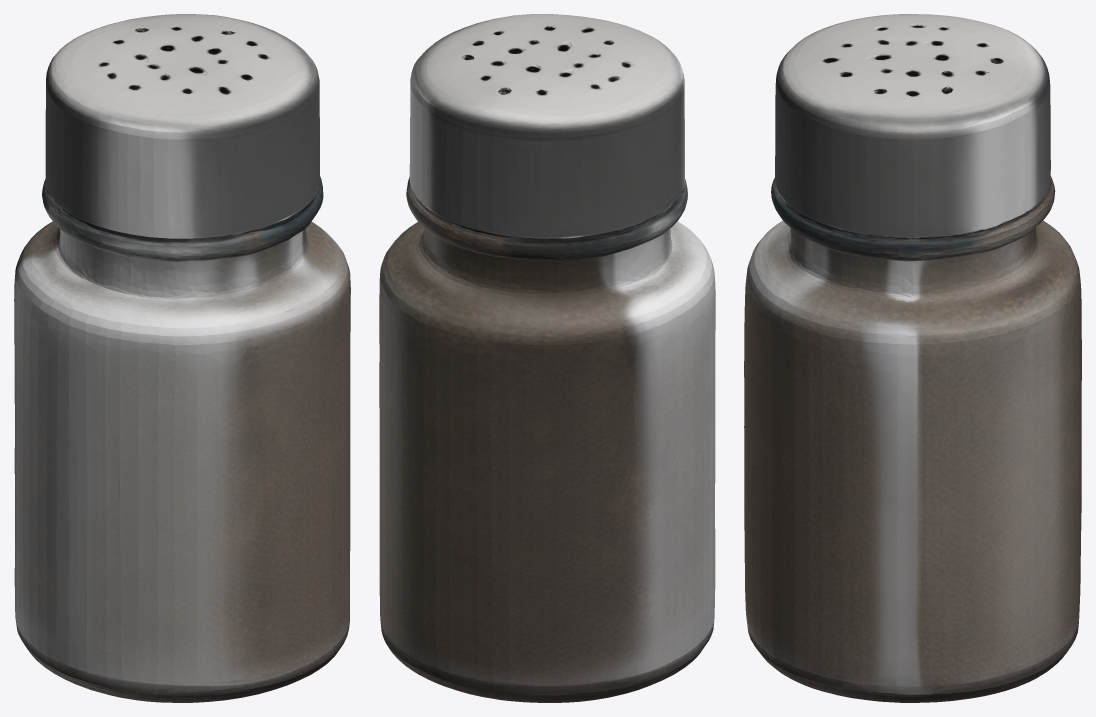
File: pepper.glb
3 renders of one model, left to right at view 1: azimuth 30°, elevation 25°; view 2: azimuth 150°, elevation 25°; view 3: azimuth 270°, elevation 25°, orthographic.
Parts seen in each view (by area): view 1: world; view 2: world; view 3: world.
Boxes of the visible parts, x1,y1,x2,y2 form: world: (14, 14, 350, 702); world: (379, 14, 715, 702); world: (744, 14, 1081, 702).
Size of the model in its own units: 0.5249 by 0.9997 by 0.5255.
Materials: 1 (1 with a texture image).
